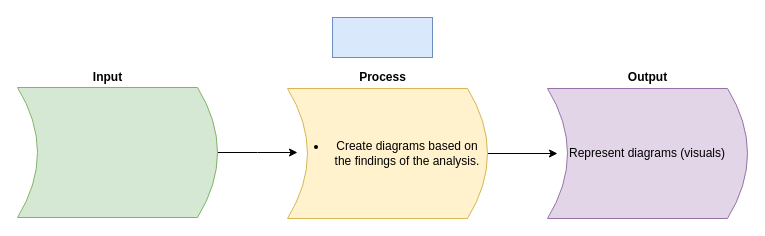
This 765x236 diagram has some shape labels left out. The shapes that lost their labels are listed below. From the top down, each one's centre as x and y in pixels, then its label:
At (x=382, y=37): "Visualizing".
At (x=117, y=152): "Analyzed aspect-based sentiment results file".
